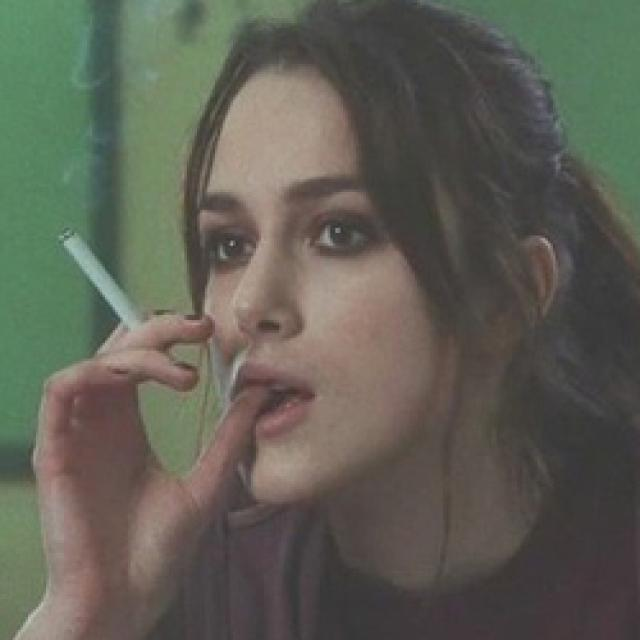Smooking: (57, 225, 165, 331)
